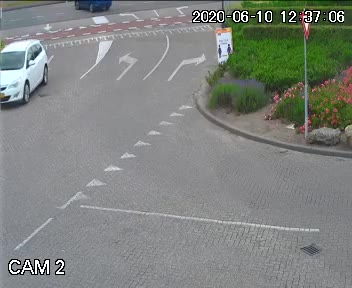car: (0, 37, 51, 115)
